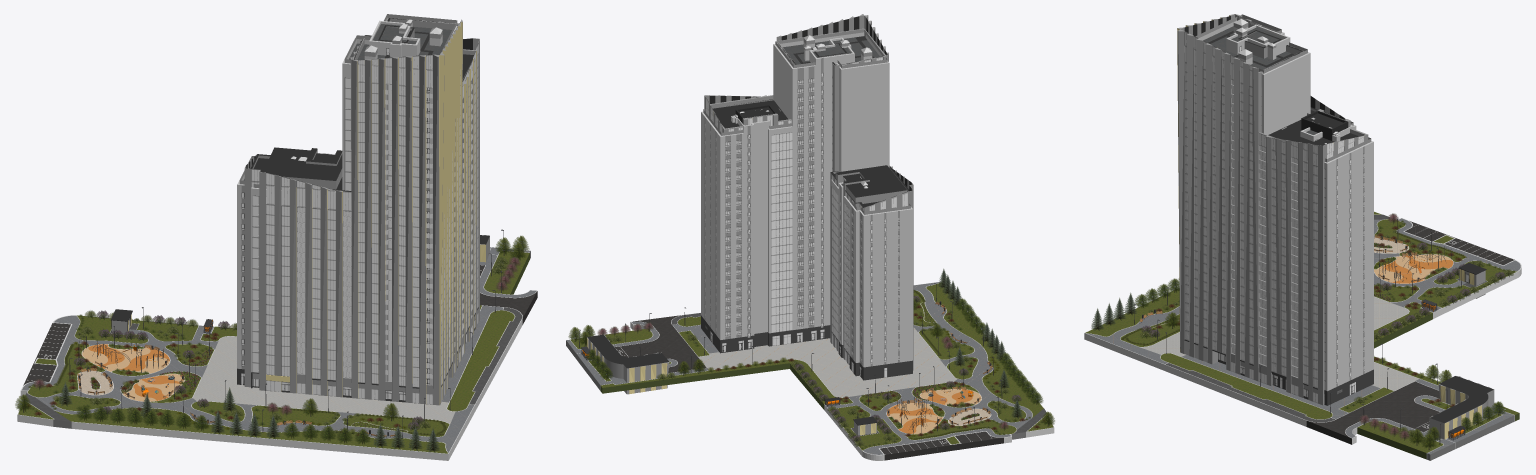
The model's file is ShosseRublevskaja_v4.glb.
3 renders of one model, left to right at view 1: azimuth 30°, elevation 25°; view 2: azimuth 150°, elevation 25°; view 3: azimuth 270°, elevation 25°, orthographic. The views are drawn at different scales.
Parts seen in each view (by area): view 1: SM_ShosseRublevskoe_Str_12_001_Main, SM_ShosseRublevskaja_D_12_Ground, SM_ShosseRublevskaja_D_12_Flora, SM_ShosseRublevskoe_Str_12_001_MainV2, SM_ShosseRublevskaja_D_12_GroundEl; view 2: SM_ShosseRublevskoe_Str_12_001_MainV2, SM_ShosseRublevskaja_D_12_Ground, SM_ShosseRublevskaja_D_12_Flora, SM_ShosseRublevskoe_Str_12_001_Main, SM_ShosseRublevskoe_Str_12_002_Main, SM_ShosseRublevskaja_D_12_GroundEl; view 3: SM_ShosseRublevskoe_Str_12_001_Main, SM_ShosseRublevskaja_D_12_Ground, SM_ShosseRublevskoe_Str_12_001_MainV2, SM_ShosseRublevskaja_D_12_Flora, SM_ShosseRublevskoe_Str_12_002_Main, SM_ShosseRublevskaja_D_12_GroundEl, SM_ShosseRublevskoe_Str_12_003_Main.
Boxes of the visible parts, x1,y1,x2,y2 form: SM_ShosseRublevskoe_Str_12_001_Main: (244,18,479,405); SM_ShosseRublevskaja_D_12_Ground: (17,247,537,460); SM_ShosseRublevskaja_D_12_Flora: (15,235,529,452); SM_ShosseRublevskoe_Str_12_001_MainV2: (237,14,471,388); SM_ShosseRublevskaja_D_12_GroundEl: (69,229,503,438); SM_ShosseRublevskoe_Str_12_001_MainV2: (701,29,912,380); SM_ShosseRublevskaja_D_12_Ground: (566,281,1054,460); SM_ShosseRublevskaja_D_12_Flora: (568,268,1054,448); SM_ShosseRublevskoe_Str_12_001_Main: (704,14,913,370); SM_ShosseRublevskoe_Str_12_002_Main: (587,334,669,394); SM_ShosseRublevskaja_D_12_GroundEl: (579,283,1002,433); SM_ShosseRublevskoe_Str_12_001_Main: (1177,14,1368,405); SM_ShosseRublevskaja_D_12_Ground: (1084,211,1521,460); SM_ShosseRublevskoe_Str_12_001_MainV2: (1195,14,1373,405); SM_ShosseRublevskaja_D_12_Flora: (1091,213,1515,449); SM_ShosseRublevskoe_Str_12_002_Main: (1429,375,1494,439); SM_ShosseRublevskaja_D_12_GroundEl: (1134,218,1465,444); SM_ShosseRublevskoe_Str_12_003_Main: (1458,263,1486,298).
Bounding box in the file's own units: 166 × 104 × 123.
Materials: 5 (5 with a texture image).
